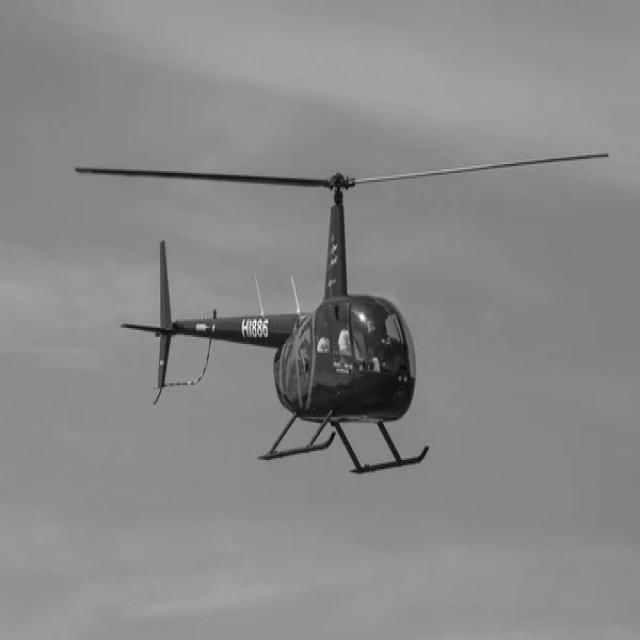Helicopter: (76, 154, 609, 473)
